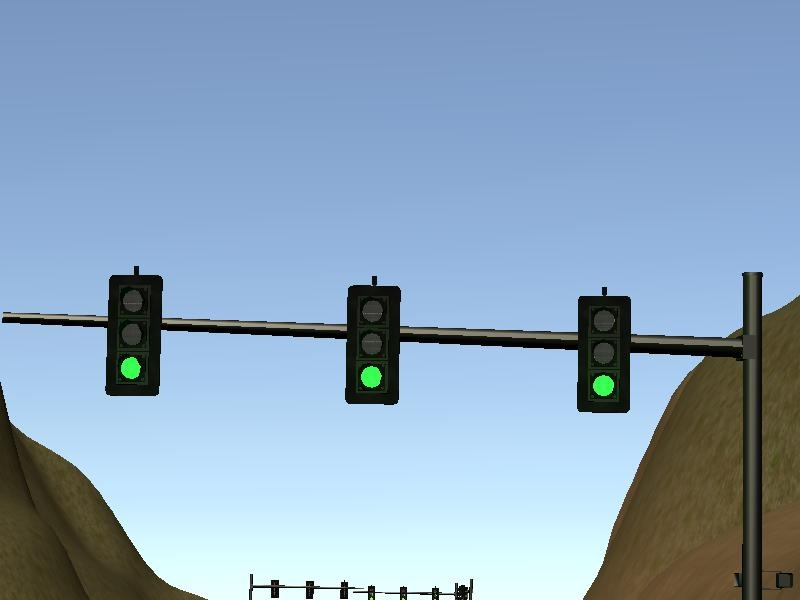green: (107, 274, 160, 394), (578, 295, 630, 415), (346, 284, 397, 406)
